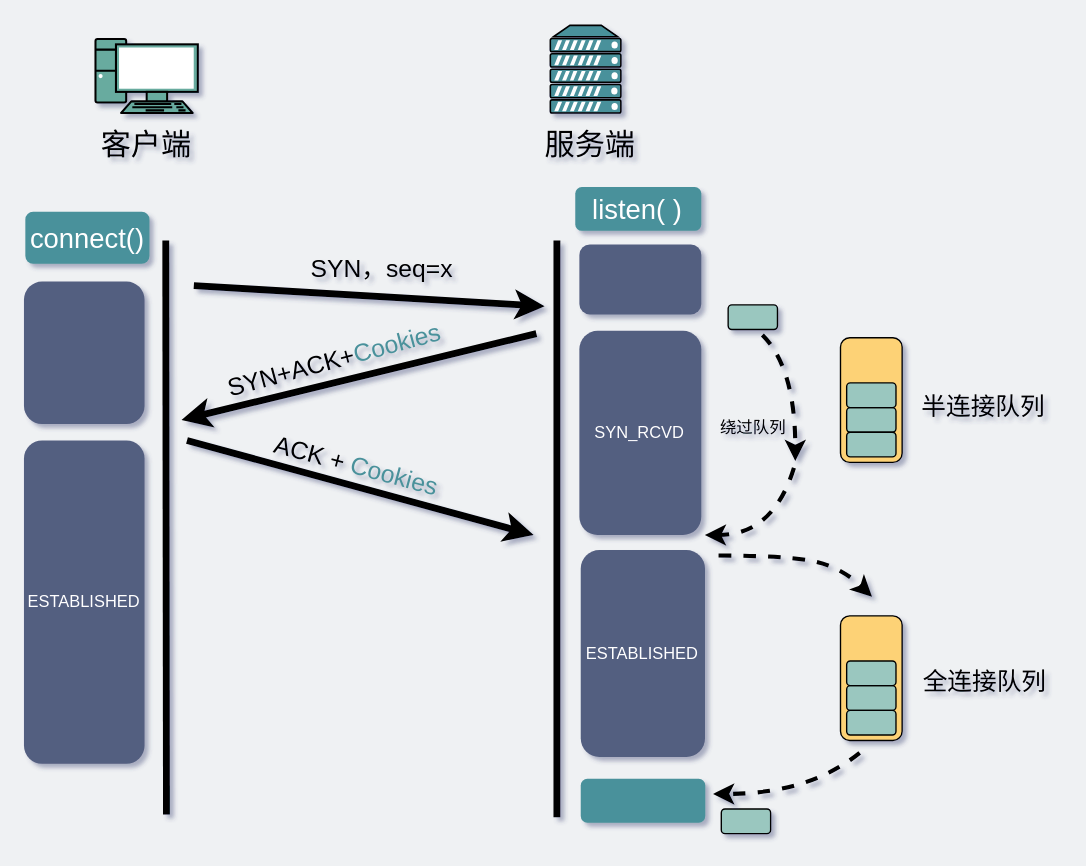
Some shapes in this 1086 by 866 pixel diagram are drawn without their labels. The shapes that lost their labels are listed below. From the top down, each one's centre as x and y in pixels, then its label:
point (640, 279): LISTEN
point (83, 352): SYN_SENT
point (642, 800): accept( )
